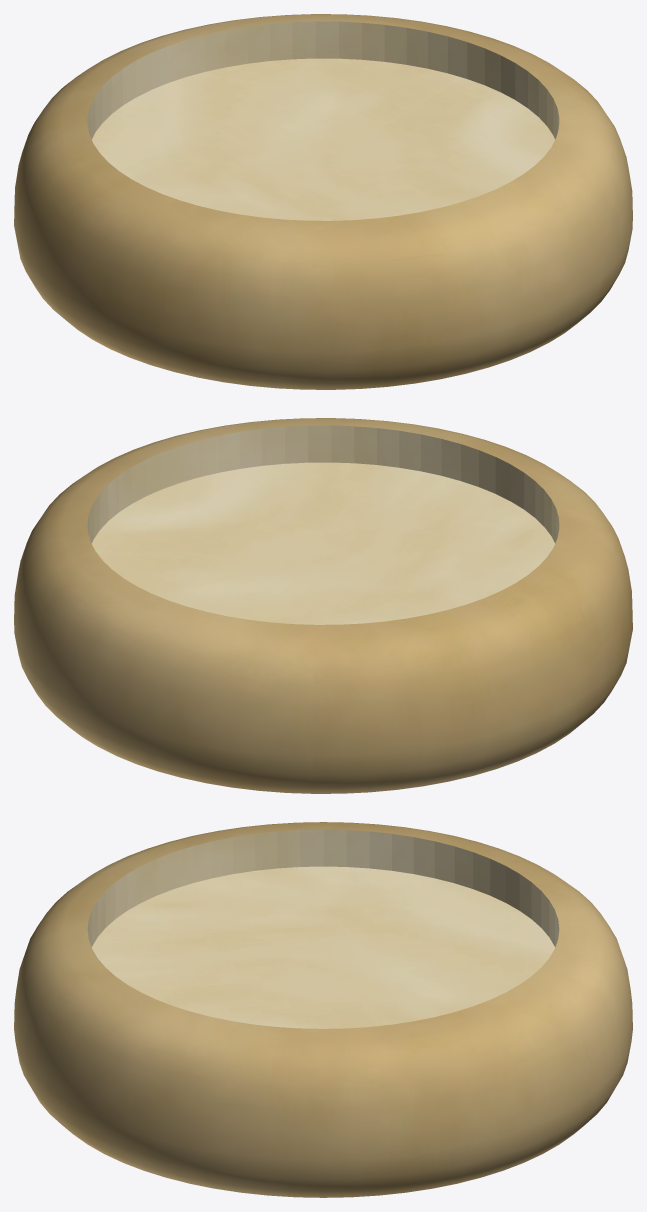
File: torta.glb
3 views of the same model, one above another, from view 1: azimuth 30°, elevation 25°; view 2: azimuth 150°, elevation 25°; view 3: azimuth 270°, elevation 25° (orthographic).
Visible parts, largest first — view 1: torta; view 2: torta; view 3: torta.
Part boxes in pixels (left/top/right/bottom): torta: left=14, top=14, right=632, bottom=389; torta: left=14, top=418, right=632, bottom=793; torta: left=14, top=822, right=632, bottom=1197.
Bounding box in the file's own units: 0.1731 × 0.0494 × 0.1731.
1 material, 1 textured.
